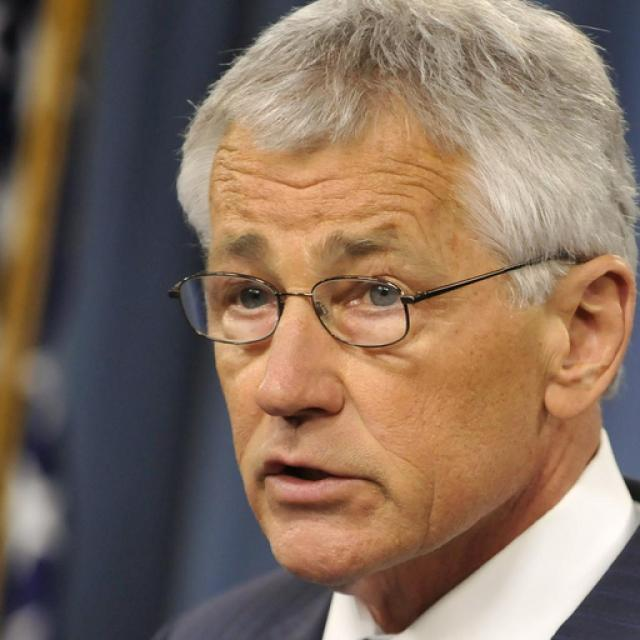Puffy Eyes - v3 Dark Circle: (340, 309, 405, 337), (214, 318, 274, 343)
